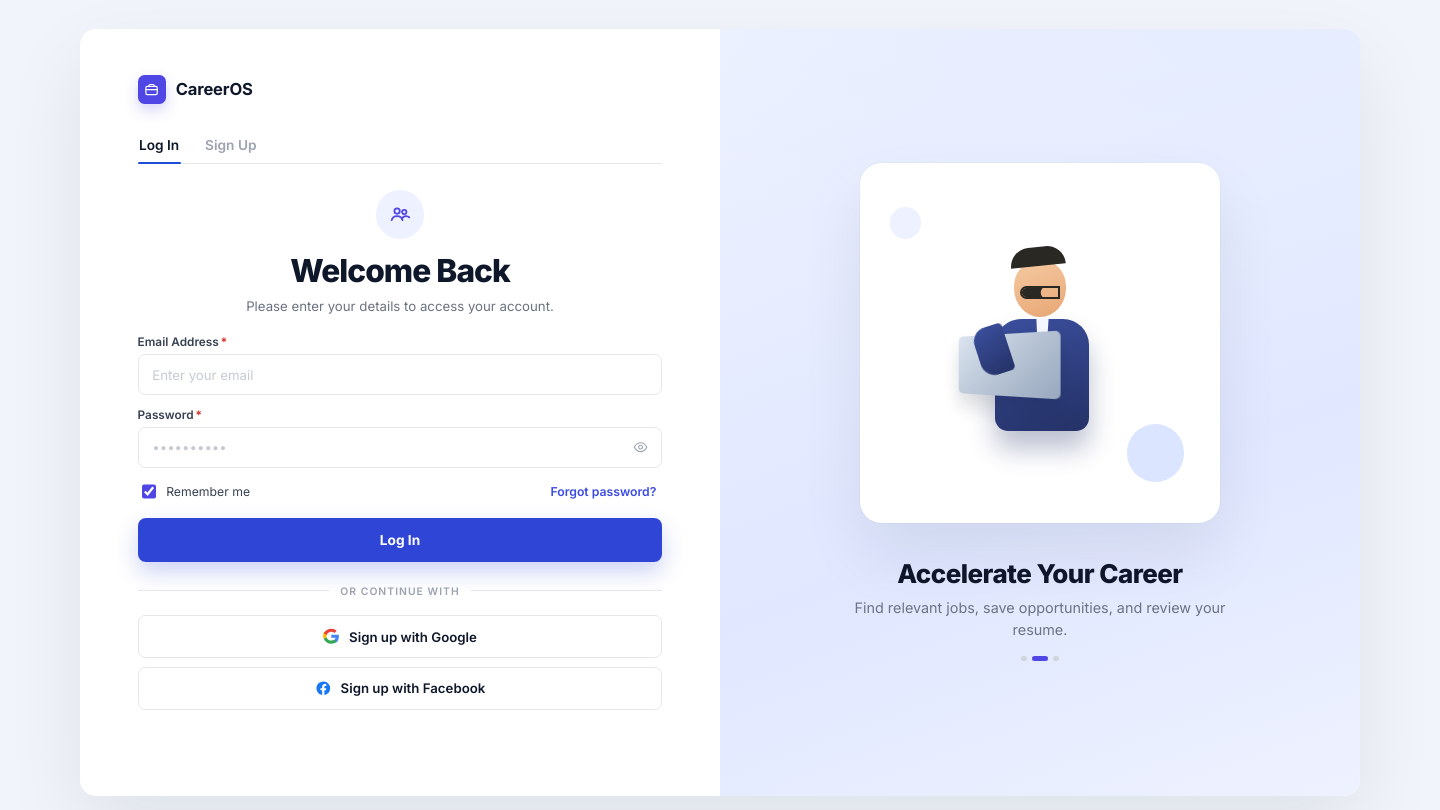
Test case: AuthPage — login mode › shows an inline error when login fails
The width and height of the screenshot is (1440, 810).
Type "bad" into the field labelled "Email Address*" at (400, 375), box [138, 354, 662, 395]
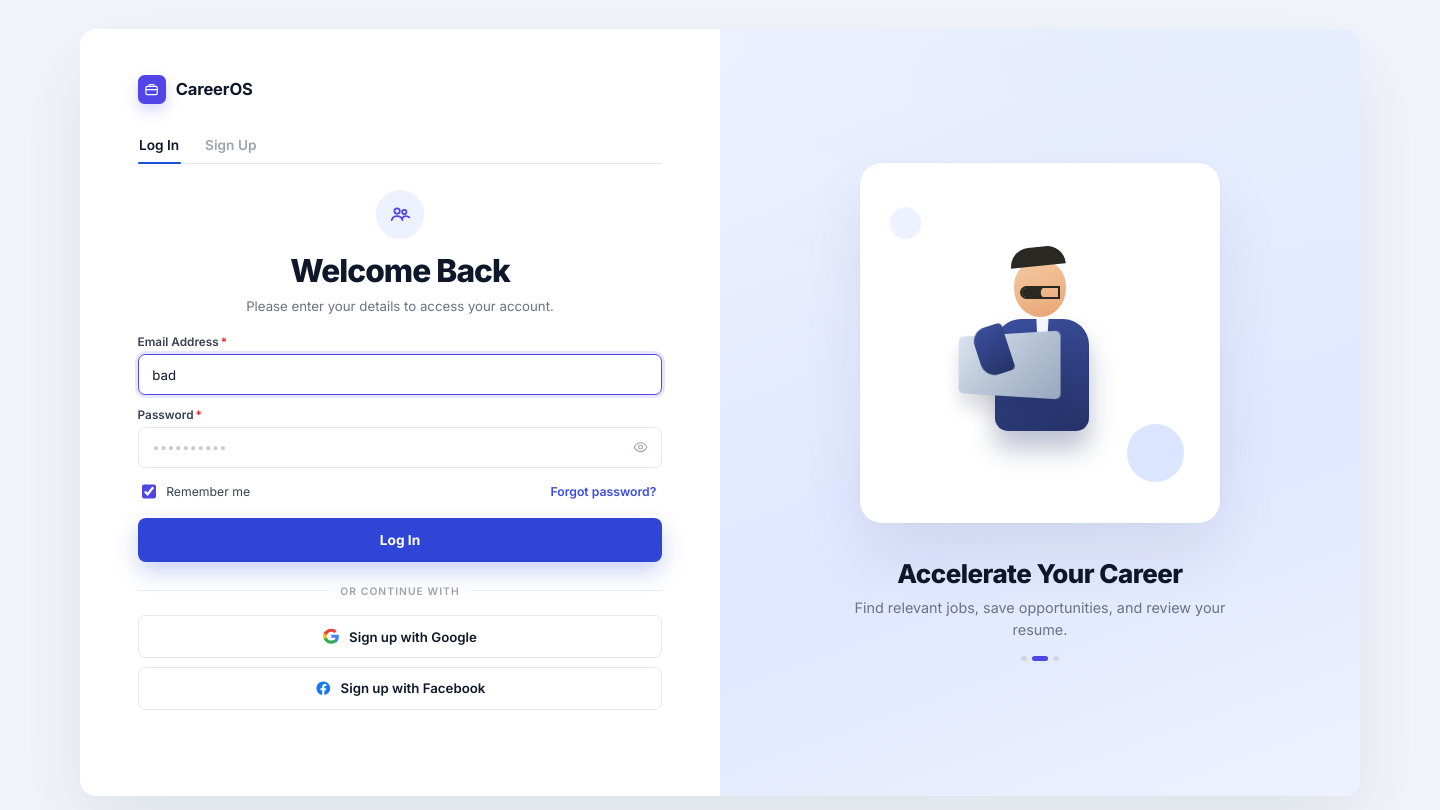
Type "wrong" into the password field labelled "Password*" at (400, 447), box [138, 427, 662, 468]
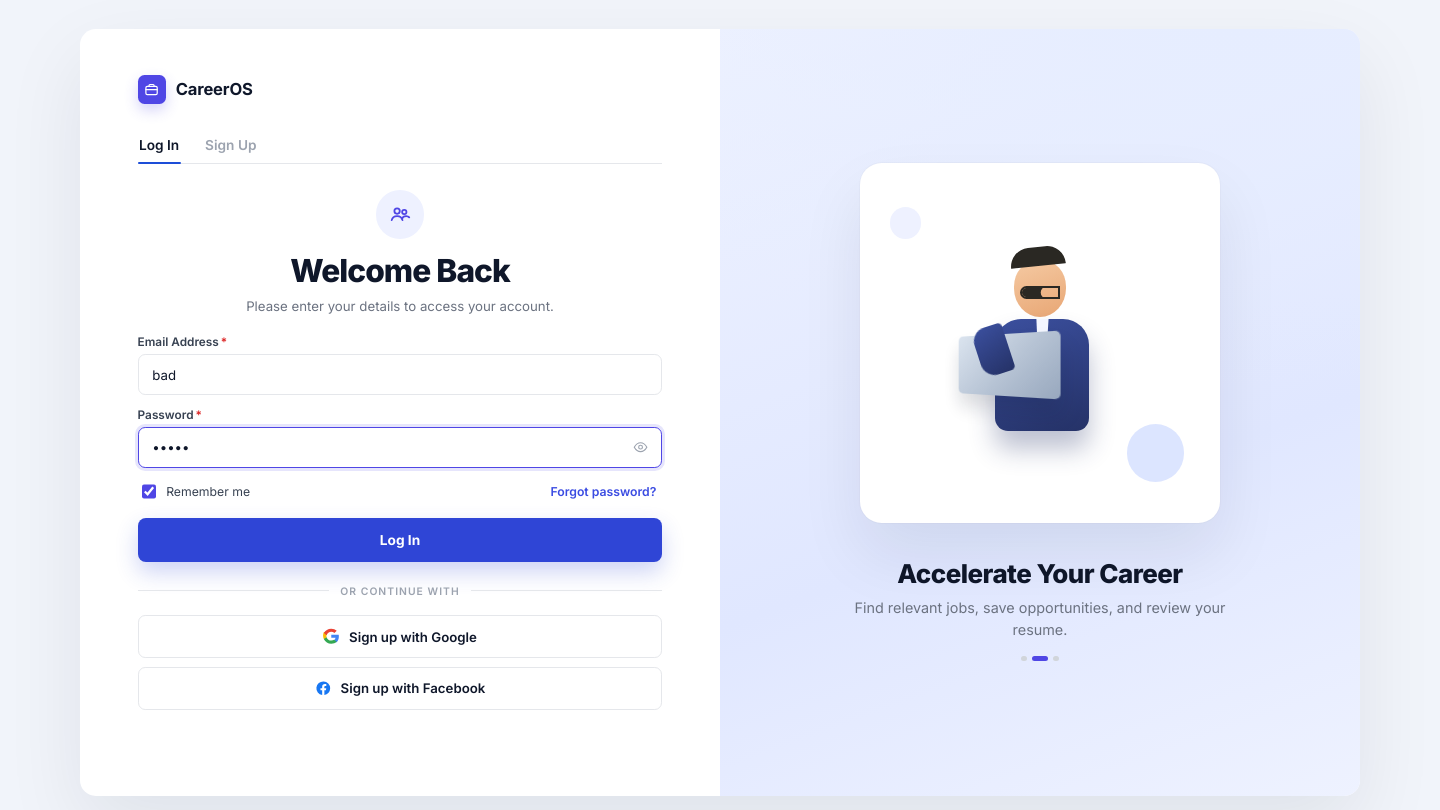
Click the submit button at (400, 540), box [138, 518, 662, 562]
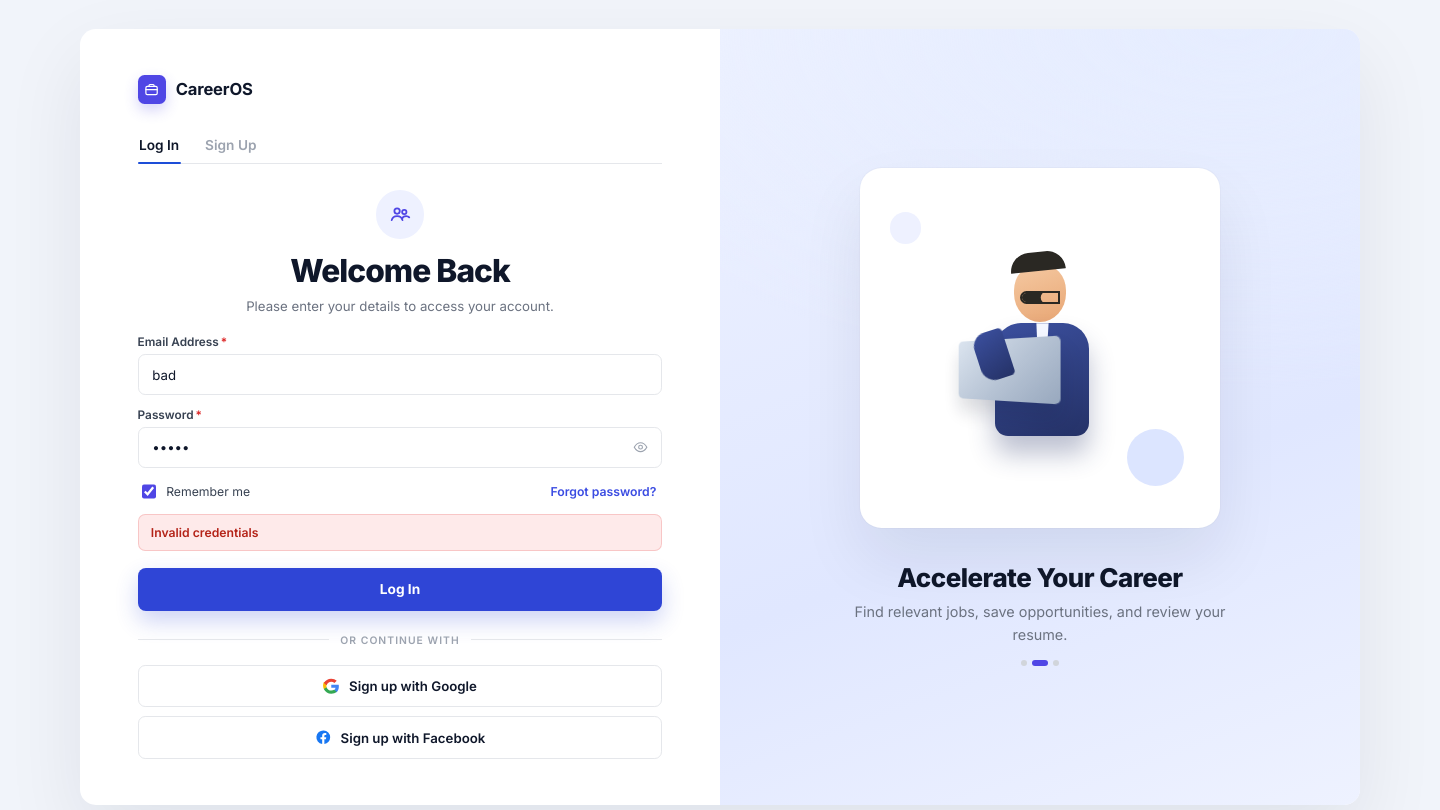
Expected: the text "Invalid credentials" is shown, [138, 514, 662, 551]
